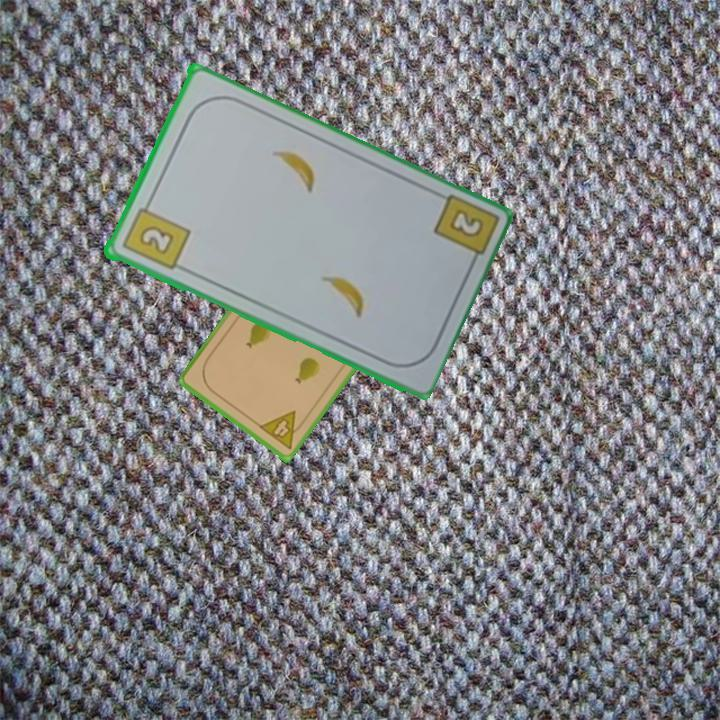2b: (118, 196, 192, 274), (445, 205, 486, 241)
4p: (255, 408, 309, 453)
